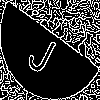J: (25, 24, 63, 77)
